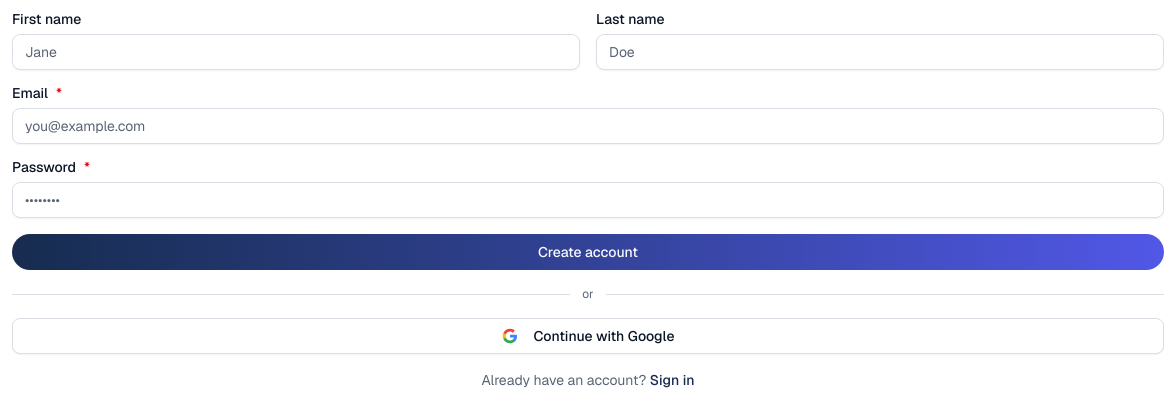
Test: SignupForm › shows success message after successful signup
In the field labelled "Email *": (588,126) [12, 108, 1164, 144], type "new@example.com"
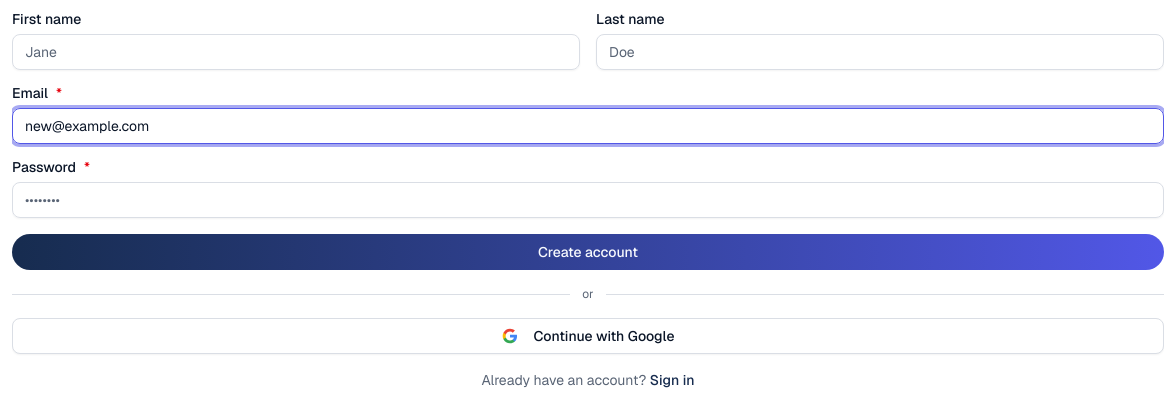
In the password field labelled "Password *": (588,200) [12, 182, 1164, 218], type "password123"
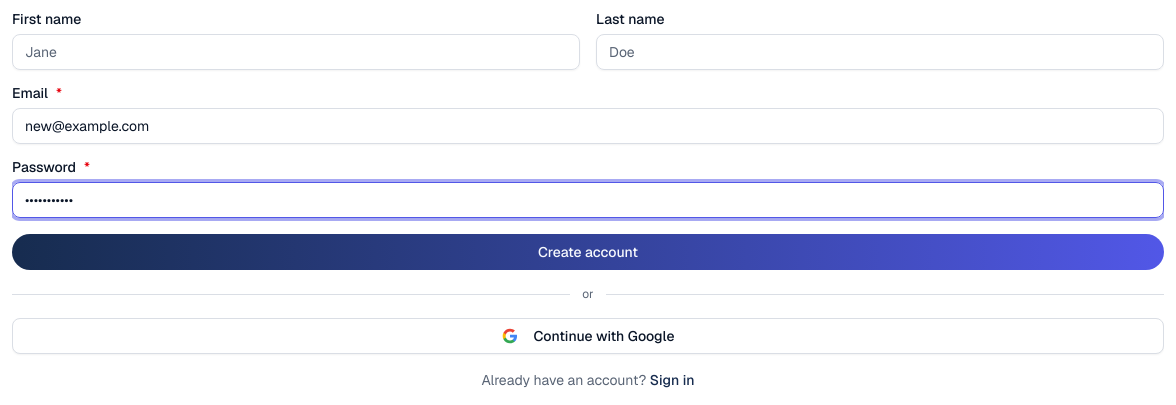
Click the button "Create account": (588,252) [12, 234, 1164, 270]
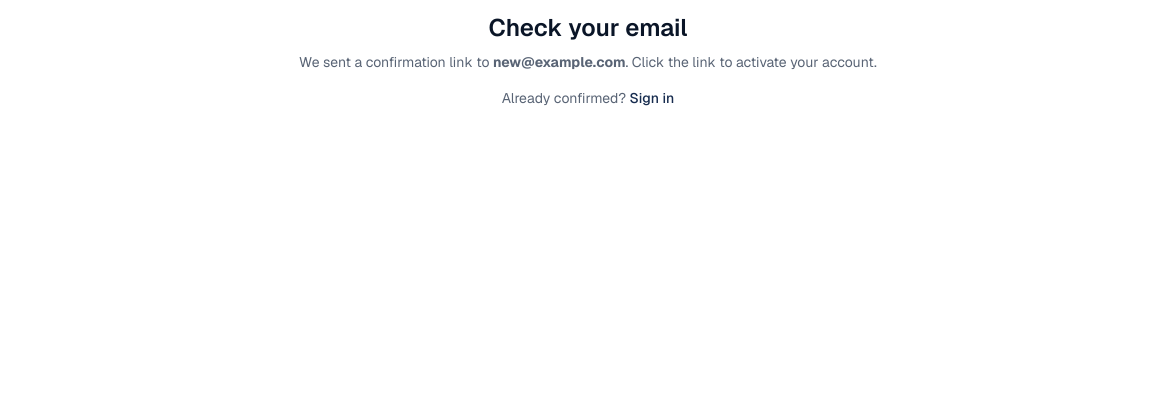
Result: the text "Check your email" is shown at [488, 12, 688, 43]
Result: the text "new@example.com" is shown at [493, 53, 626, 71]
